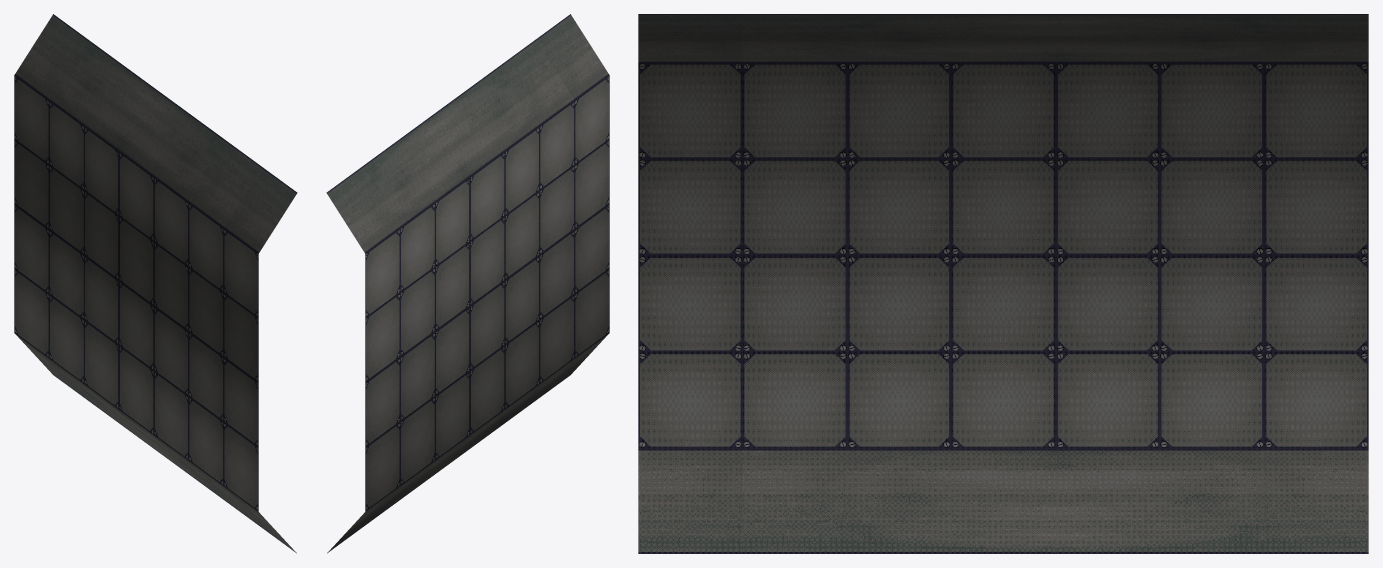
File: WallBotWide.fbx
3 renders of one model, left to right at view 1: azimuth 30°, elevation 25°; view 2: azimuth 150°, elevation 25°; view 3: azimuth 270°, elevation 25°, orthographic. The views are drawn at different scales.
Parts seen in each view (by area): view 1: WallBotWide; view 2: WallBotWide; view 3: WallBotWide.
Part boxes in pixels (box(x1,y1,x2,y2)): WallBotWide: box(14, 14, 297, 553); WallBotWide: box(326, 14, 609, 553); WallBotWide: box(638, 14, 1368, 553).
Bounding box in the file's own units: 0.2258 × 2 × 2.45.
